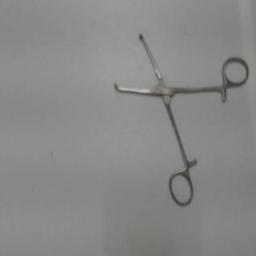Allis Tissue Forceps: (109, 25, 253, 213)
